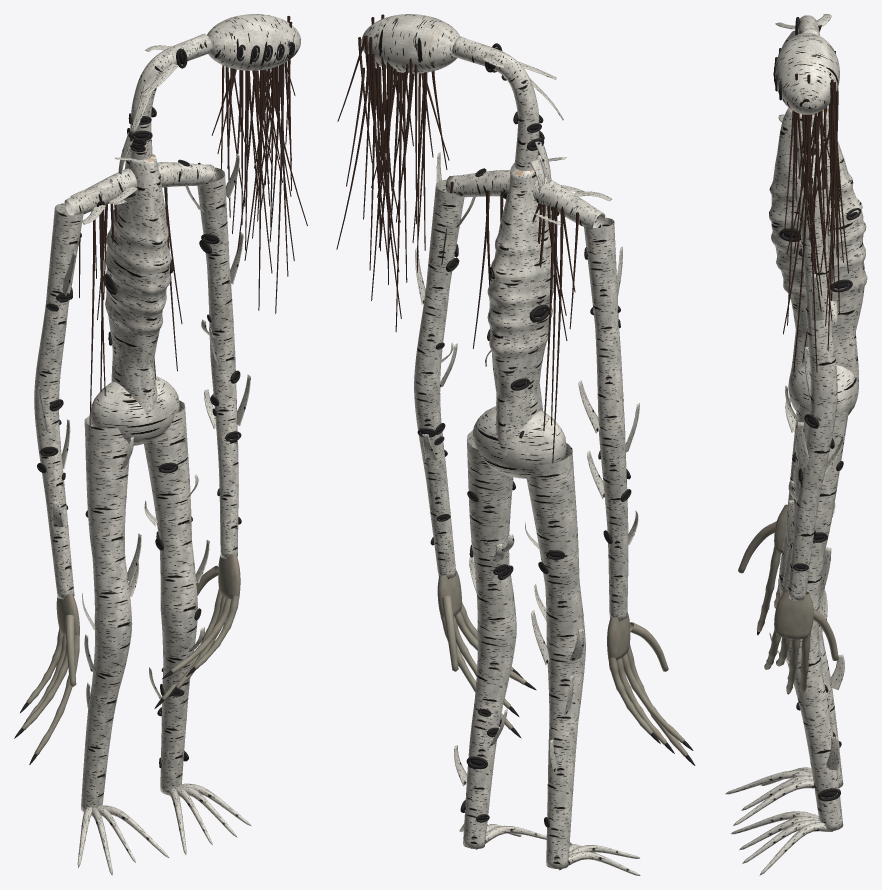
File: Bereznik.fbx
3 renders of one model, left to right at view 1: azimuth 30°, elevation 25°; view 2: azimuth 150°, elevation 25°; view 3: azimuth 270°, elevation 25°, orthographic. The views are drawn at different scales.
Parts seen in each view (by area): view 1: Bereznik; view 2: Bereznik; view 3: Bereznik.
Boxes of the visible parts, box(x1,y1,x2,y2) form: Bereznik: box(14, 14, 307, 875); Bereznik: box(336, 14, 695, 875); Bereznik: box(725, 14, 867, 875).
Size of the model in its own units: 1.44 by 3.41 by 0.5253.
Materials: 5 (2 with a texture image).
